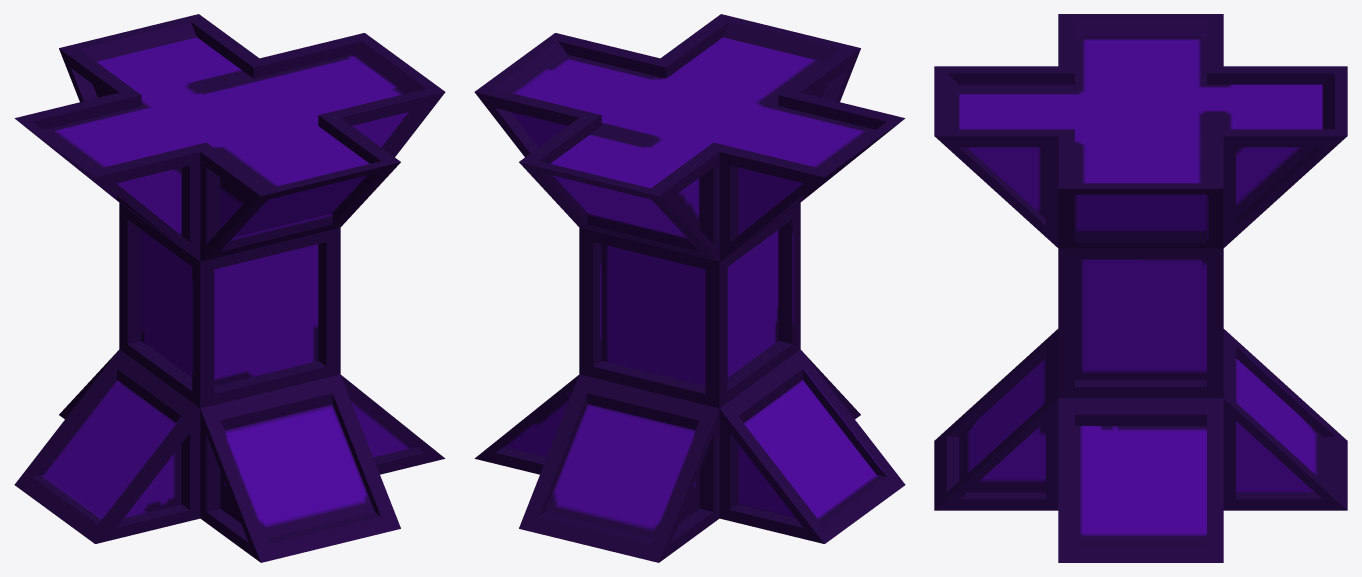
File: Obsidian.fbx
The picture shows the model from 3 angles, left to right: view 1: azimuth 30°, elevation 25°; view 2: azimuth 150°, elevation 25°; view 3: azimuth 270°, elevation 25°; orthographic projection. The views are drawn at different scales.
Parts seen in each view (by area): view 1: Obsidian; view 2: Obsidian; view 3: Obsidian.
Boxes of the visible parts, bbox=[...] form: Obsidian: bbox=[14, 14, 445, 562]; Obsidian: bbox=[474, 14, 905, 562]; Obsidian: bbox=[934, 14, 1347, 562].
Bounding box in the file's own units: 1 × 1 × 1.
1 material, 1 textured.
